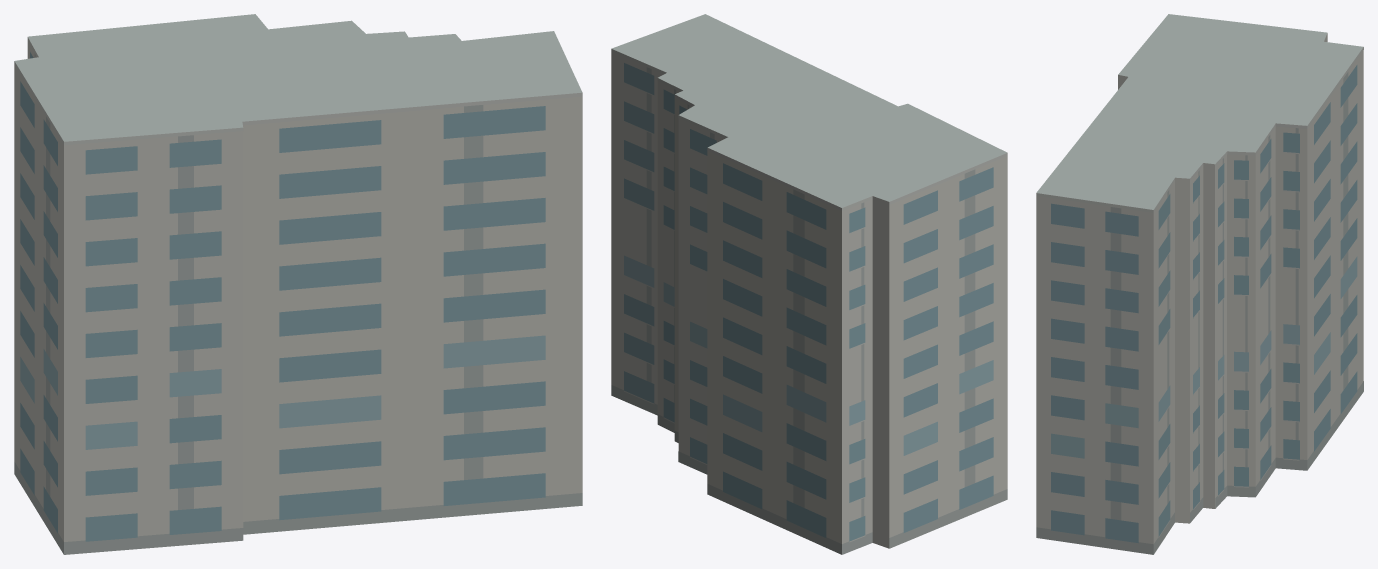
The model's file is survey-upis-33041784.glb.
The picture shows the model from 3 angles, left to right: view 1: azimuth 30°, elevation 25°; view 2: azimuth 150°, elevation 25°; view 3: azimuth 270°, elevation 25°; orthographic projection. The views are drawn at different scales.
Parts seen in each view (by area): view 1: survey-upis-33041784.tmp; view 2: survey-upis-33041784.tmp; view 3: survey-upis-33041784.tmp.
Boxes of the visible parts, box(x1,y1,x2,y2) form: survey-upis-33041784.tmp: box(14, 14, 582, 554); survey-upis-33041784.tmp: box(611, 14, 1007, 554); survey-upis-33041784.tmp: box(1036, 14, 1363, 554).
Bounding box in the file's own units: 33.47 × 27.45 × 23.64.
